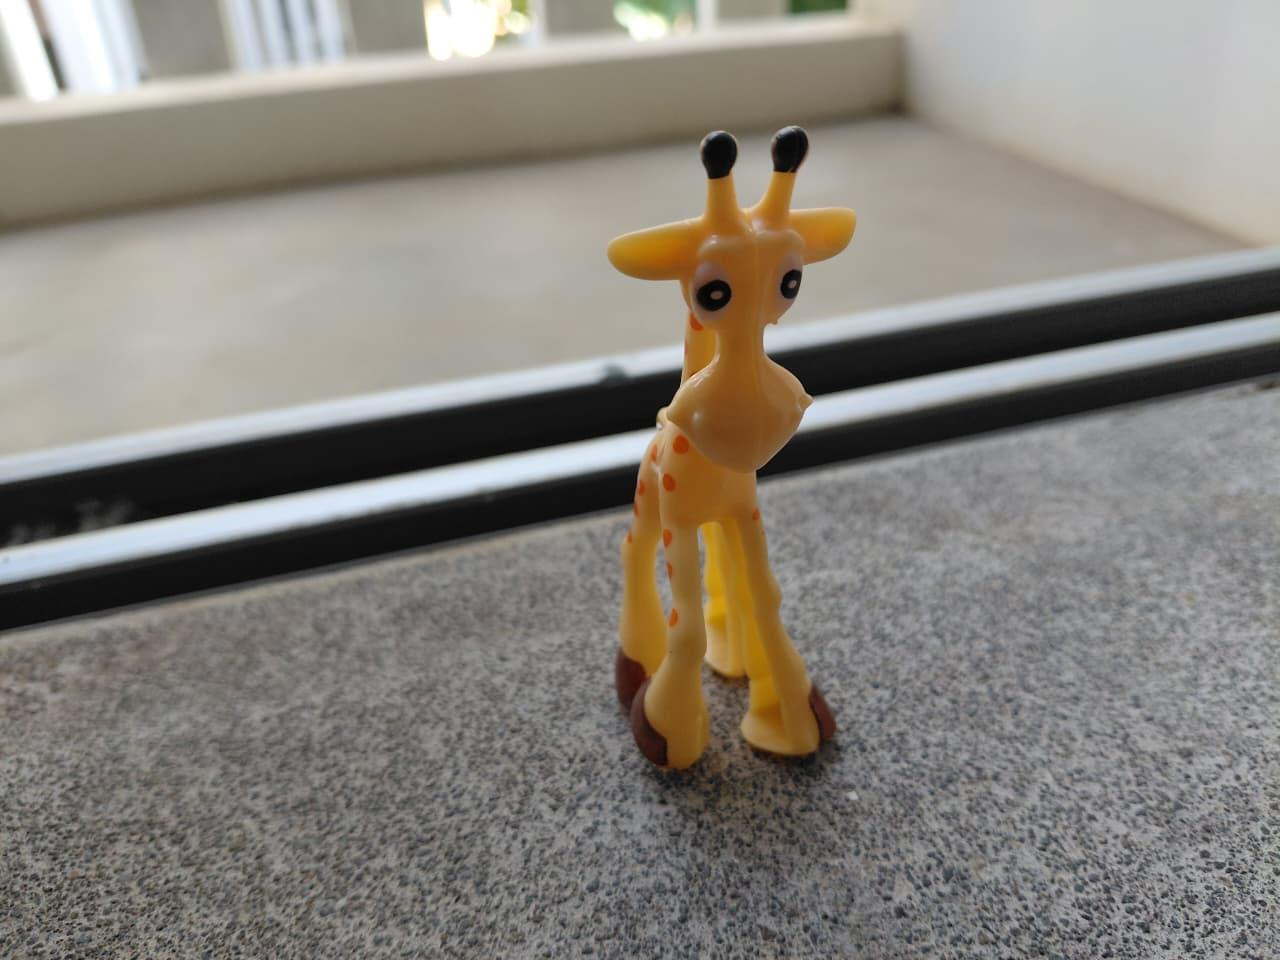giraffe: (556, 122, 973, 788)
